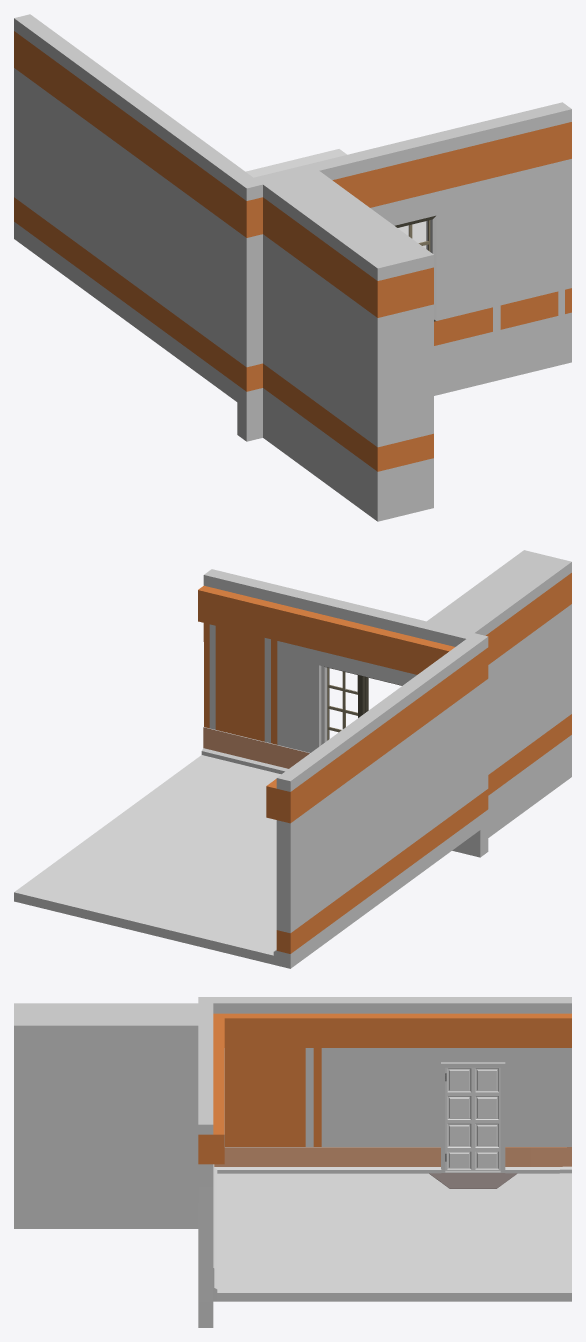
The model's file is Room.fbx.
3 views of the same model, one above another, from view 1: azimuth 30°, elevation 25°; view 2: azimuth 150°, elevation 25°; view 3: azimuth 270°, elevation 25° (orthographic). The views are drawn at different scales.
Parts seen in each view (by area): view 1: Wall; view 2: Wall, Window; view 3: Wall, Door, Door Frame, Rug.
Part boxes in pixels (left/top/right/bottom): Wall: left=14, top=14, right=571, bottom=521; Wall: left=14, top=550, right=571, bottom=968; Window: left=327, top=667, right=357, bottom=740; Wall: left=14, top=997, right=571, bottom=1327; Door: left=445, top=1067, right=500, bottom=1171; Door Frame: left=441, top=1062, right=505, bottom=1172; Rug: left=429, top=1173, right=517, bottom=1188.
Bounding box in the file's own units: 3693 × 2748 × 6833.
